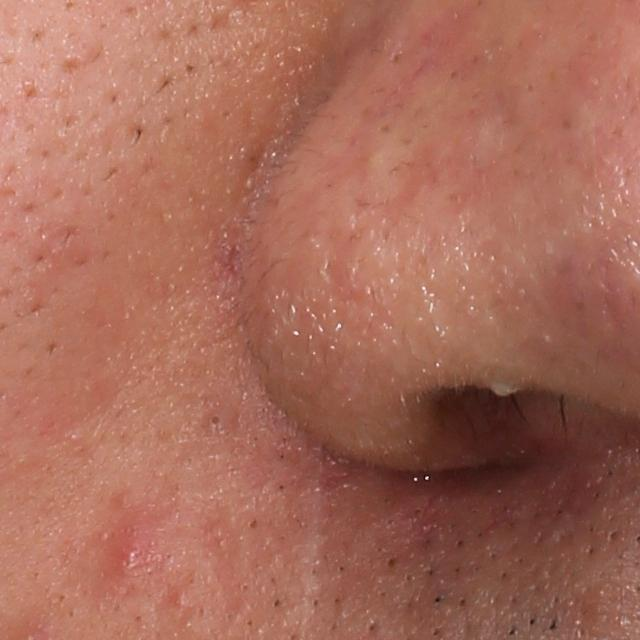comedo: (207, 410, 224, 430)
